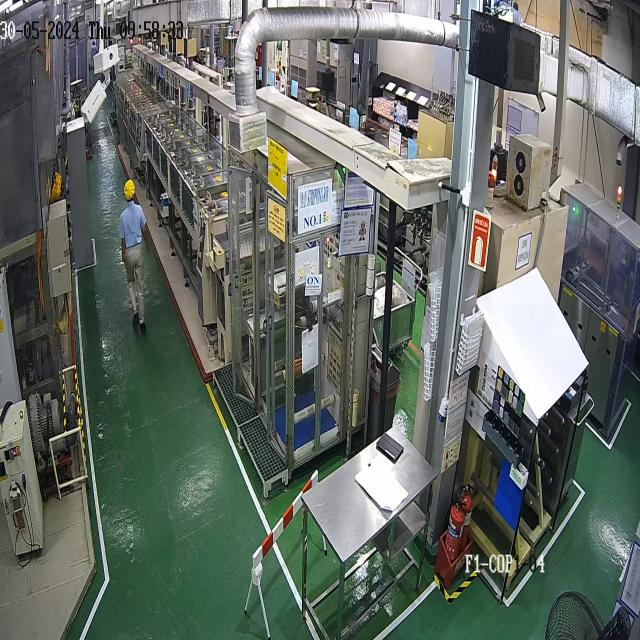Person: (120, 179, 150, 334)
